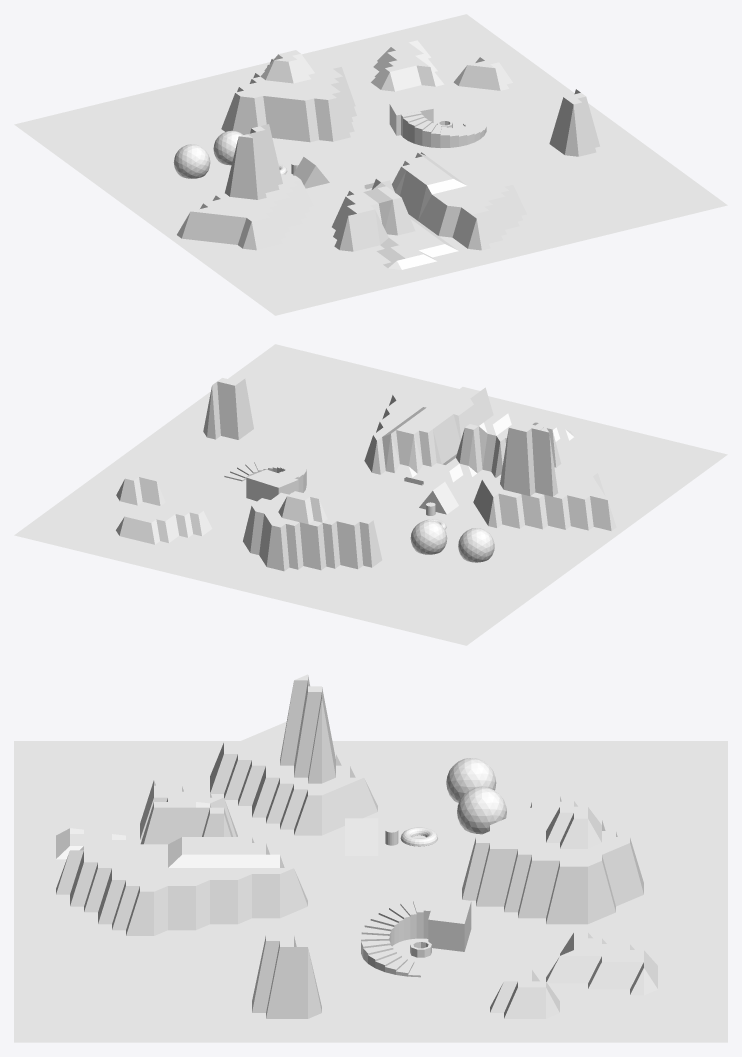
Rendered from HexGameObject.fbx.
The picture shows the model from 3 angles, top to bottom: view 1: azimuth 30°, elevation 25°; view 2: azimuth 150°, elevation 25°; view 3: azimuth 270°, elevation 25°; orthographic projection. The views are drawn at different scales.
Visible parts, largest first — view 1: New_Game_Object_235, New_Game_Object_129, New_Game_Object_131, New_Game_Object_276, New_Game_Object_242, New_Game_Object_313, New_Game_Object_311, New_Game_Object_258, New_Game_Object_236, New_Game_Object_329, New_Game_Object_92, New_Game_Object_369 (+69 smaller); view 2: New_Game_Object_221, New_Game_Object_70, New_Game_Object_71, New_Game_Object_195, New_Game_Object_271, New_Game_Object_136, New_Game_Object_238, New_Game_Object_249, New_Game_Object_228, New_Game_Object_215, New_Game_Object_126, New_Game_Object_235 (+59 smaller); view 3: New_Game_Object_67, New_Game_Object_235, New_Game_Object_88, New_Game_Object_129, New_Game_Object_221, New_Game_Object_126, New_Game_Object_233, New_Game_Object_63, New_Game_Object_267, New_Game_Object_68, New_Game_Object_191, New_Game_Object_275 (+141 smaller).
Boxes of the visible parts, box(x1,y1,x2,y2) form: New_Game_Object_235: box(238, 124, 283, 201); New_Game_Object_129: box(309, 88, 364, 147); New_Game_Object_131: box(274, 97, 320, 155); New_Game_Object_276: box(232, 210, 274, 252); New_Game_Object_242: box(559, 98, 587, 158); New_Game_Object_313: box(334, 208, 370, 253); New_Game_Object_311: box(378, 193, 415, 237); New_Game_Object_258: box(196, 208, 232, 247); New_Game_Object_236: box(212, 137, 248, 208); New_Game_Object_329: box(442, 193, 492, 240); New_Game_Object_92: box(235, 88, 266, 134); New_Game_Object_369: box(468, 219, 518, 259); New_Game_Object_221: box(198, 378, 248, 443); New_Game_Object_70: box(294, 493, 341, 570); New_Game_Object_71: box(321, 517, 368, 576); New_Game_Object_195: box(484, 490, 538, 538); New_Game_Object_271: box(455, 424, 496, 479); New_Game_Object_136: box(460, 528, 506, 570); New_Game_Object_238: box(580, 492, 630, 536); New_Game_Object_249: box(383, 426, 427, 473); New_Game_Object_228: box(358, 434, 399, 480); New_Game_Object_215: box(503, 428, 526, 493); New_Game_Object_126: box(238, 469, 297, 512); New_Game_Object_235: box(518, 426, 559, 494); New_Game_Object_67: box(560, 860, 615, 924); New_Game_Object_235: box(280, 674, 321, 777); New_Game_Object_88: box(518, 854, 559, 924); New_Game_Object_129: box(448, 831, 503, 906); New_Game_Object_221: box(280, 935, 321, 1018); New_Game_Object_126: box(428, 896, 503, 951); New_Game_Object_233: box(280, 783, 321, 835); New_Game_Object_63: box(560, 950, 615, 989); New_Game_Object_267: box(210, 874, 251, 924); New_Game_Object_68: box(560, 818, 615, 911); New_Game_Object_191: box(336, 818, 391, 864); New_Game_Object_275: box(210, 754, 251, 811).
Size of the model in its own units: 10000 by 2090 by 10000.
